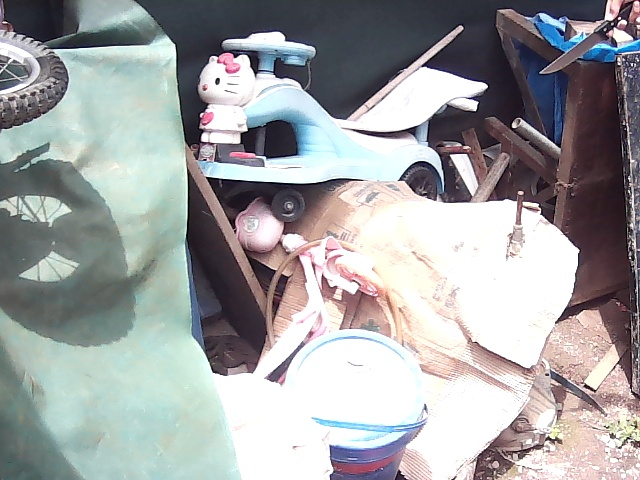cuchillo: (534, 12, 624, 79)
